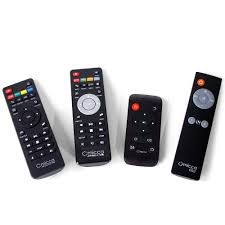remote control: (1, 82, 66, 185), (65, 65, 114, 173), (182, 67, 223, 184), (125, 87, 163, 176)
